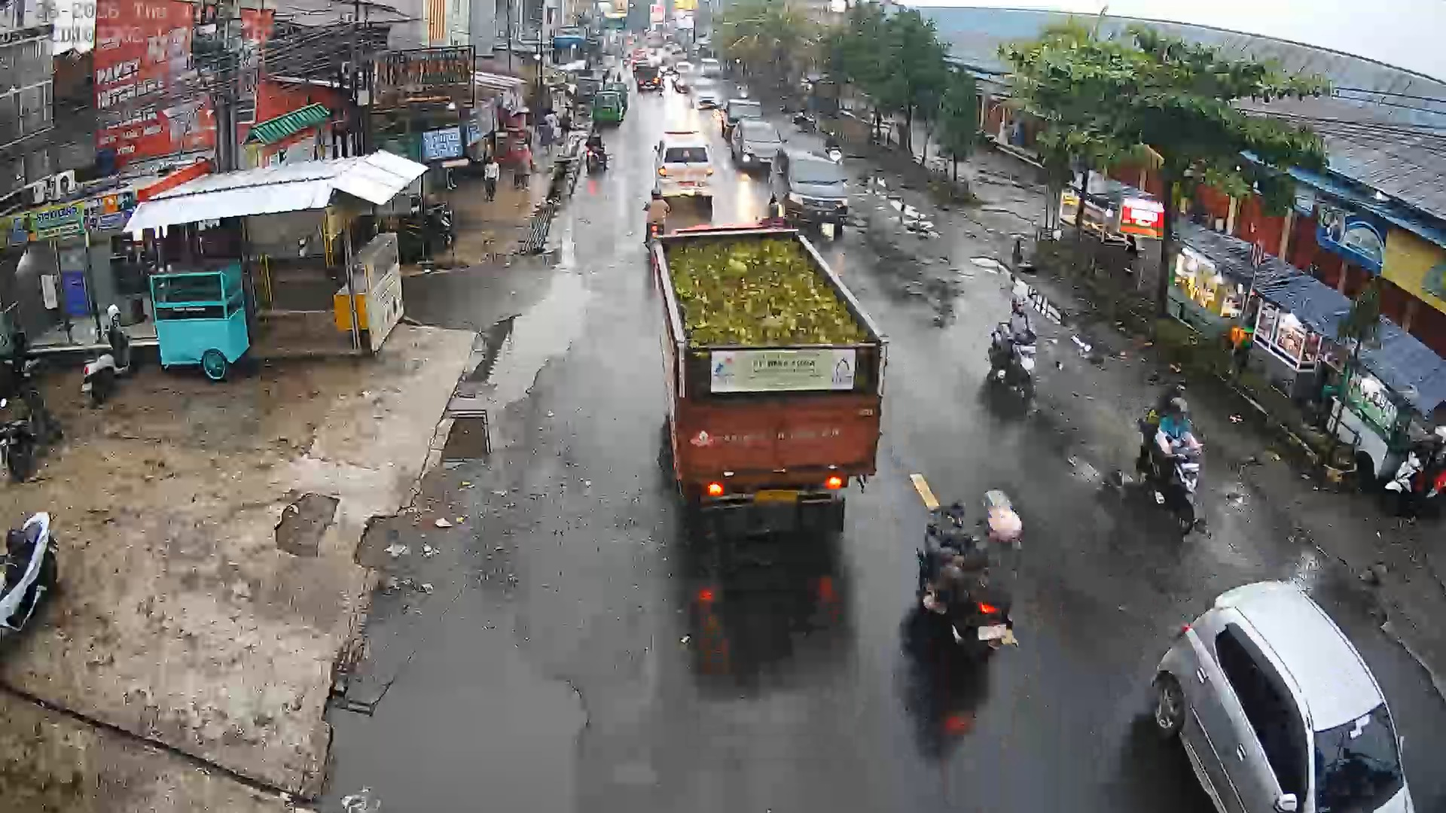Gerobak: (319, 208, 420, 355), (147, 259, 253, 382)
